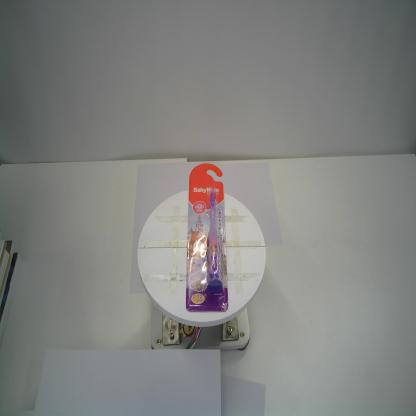Personal Hygiene: (185, 162, 229, 312)
